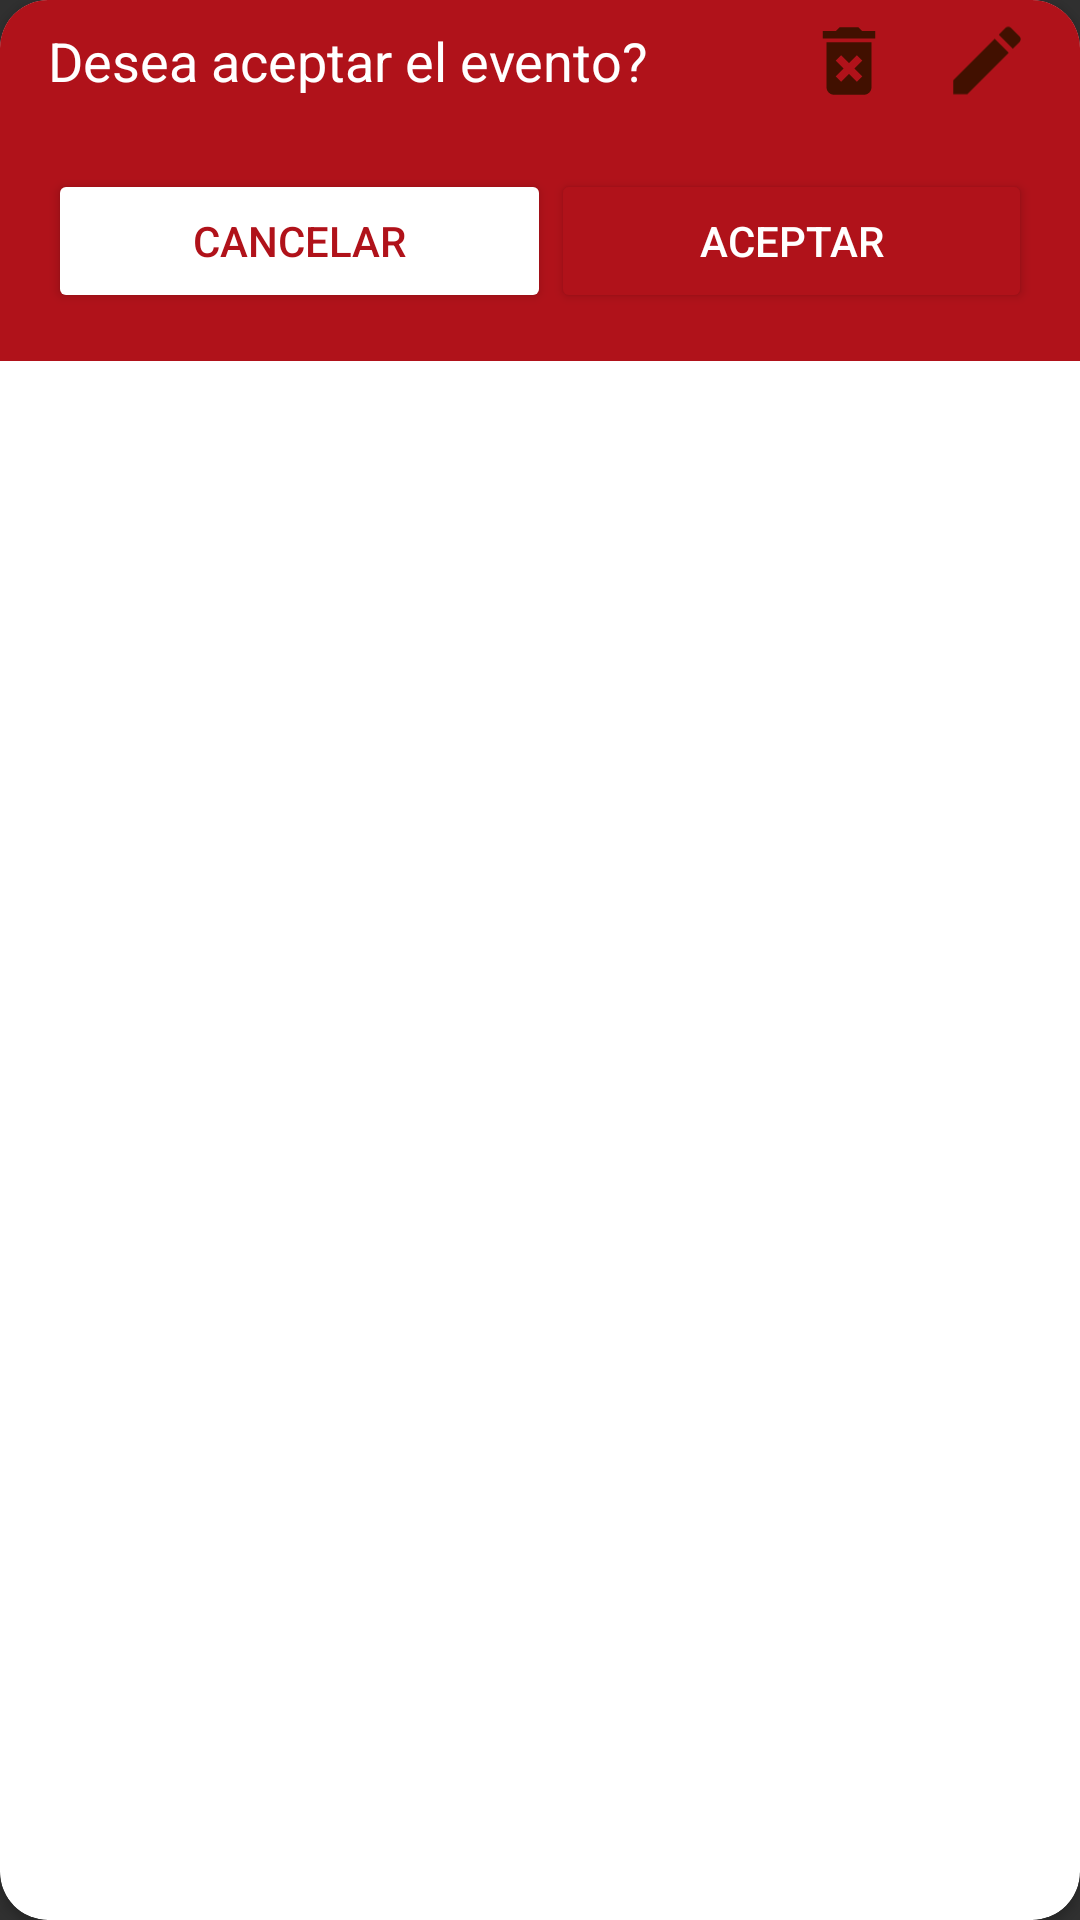

Screen size 1080*1920. Icon name, then its center in pixels as [x,y]:
editar: [987,60]
eliminar: [849,61]
